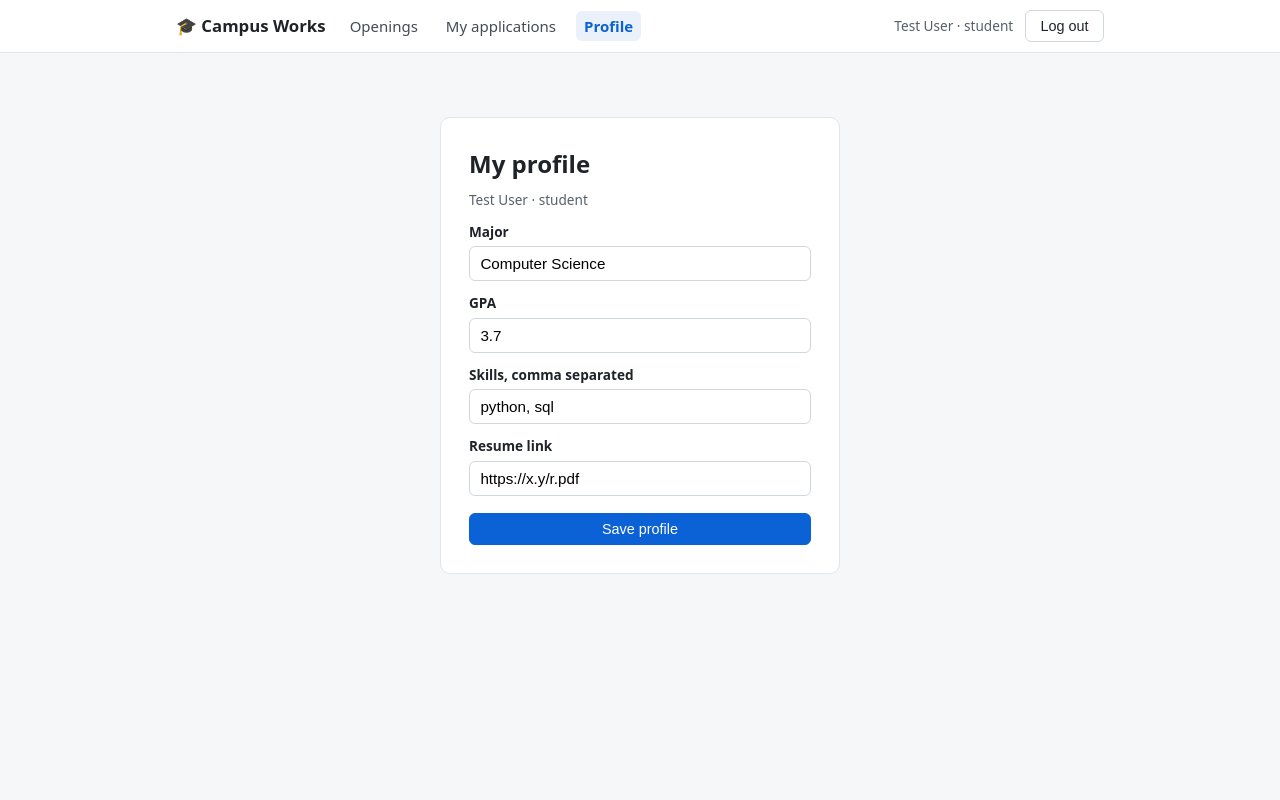
it: student form loads existing values, validates, and saves
The image size is (1280, 800).
expect the field labelled "Skills, comma separated" holds "python, sql": met, box top-left (469, 389), bottom-right (811, 424)
Replace the text in the number field labelled "GPA" with "4.5": point(640, 335) top-left (469, 318), bottom-right (811, 353)
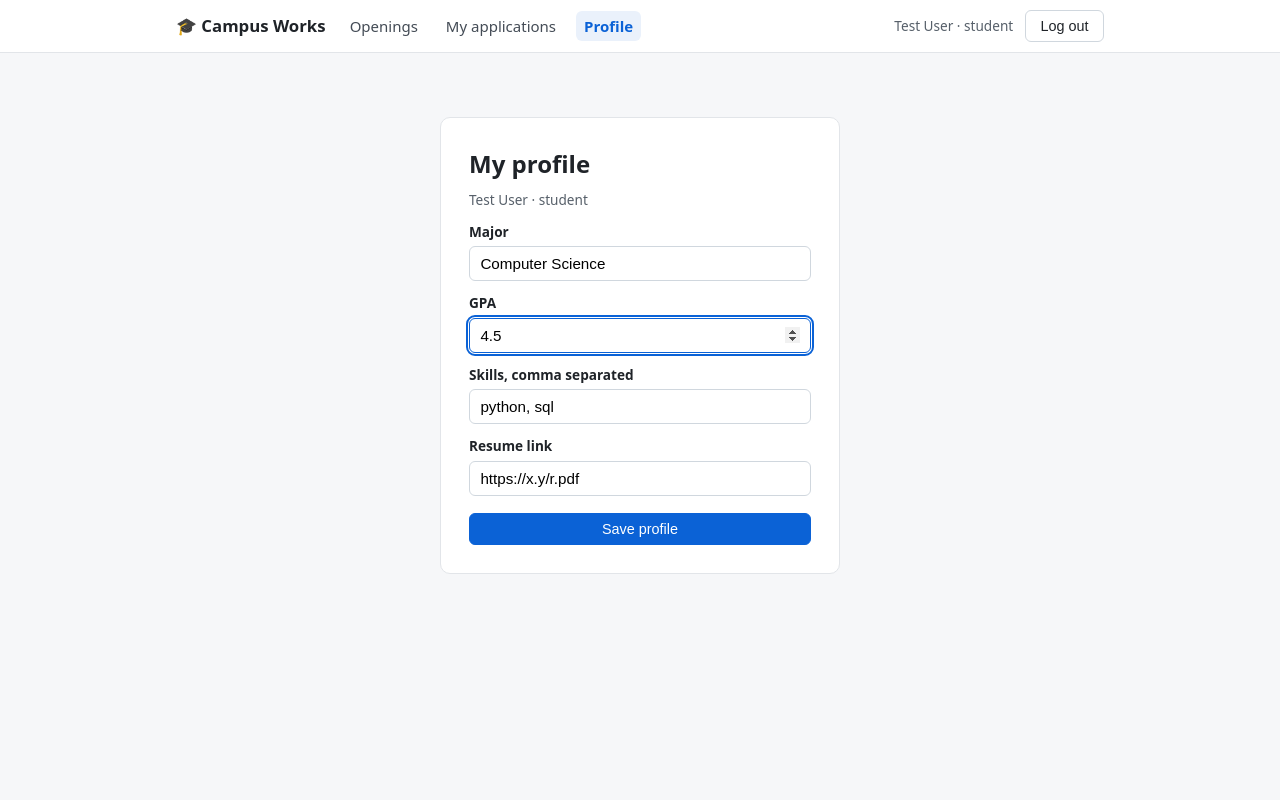
Click the button "Save profile": point(640, 529) top-left (469, 513), bottom-right (811, 546)
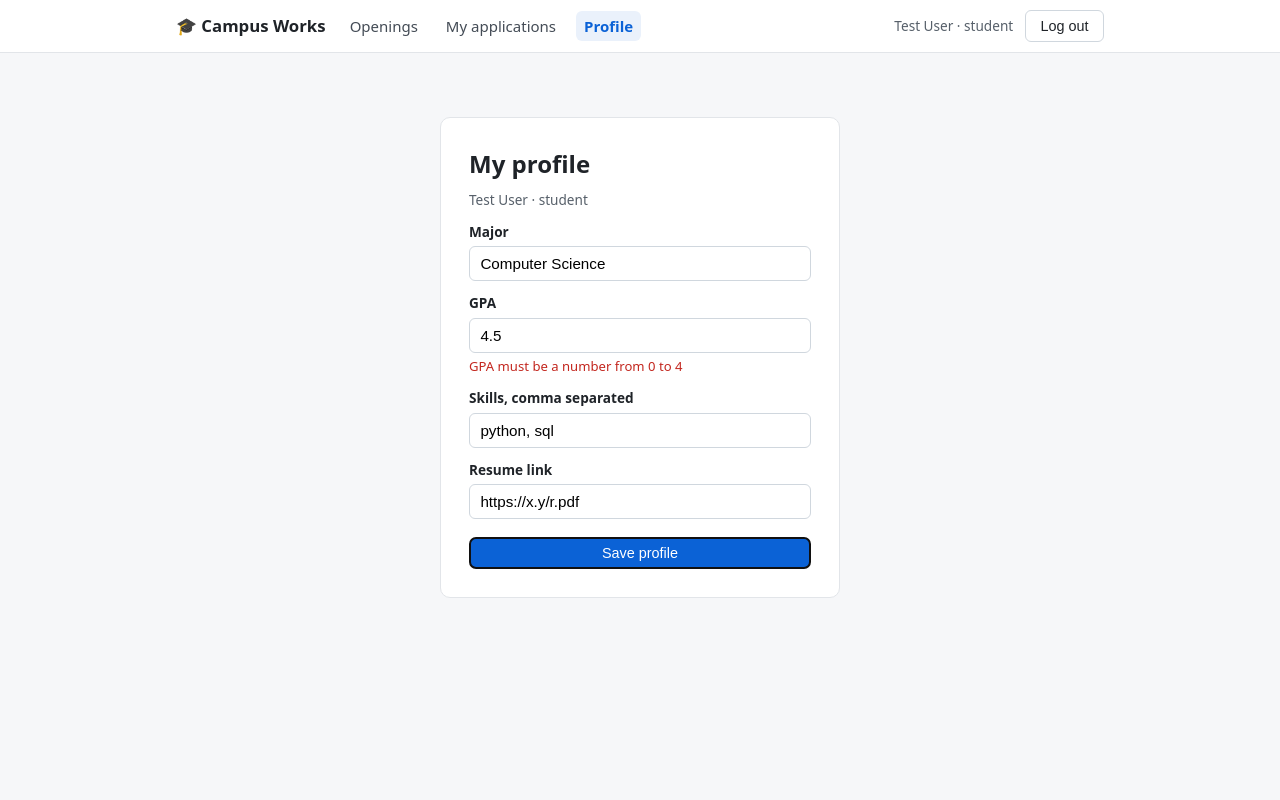
expect the text "GPA must be a number from 0 to 4" is shown: met, box top-left (469, 357), bottom-right (682, 375)
Replace the text in the number field labelled "GPA" with "3.9": point(640, 335) top-left (469, 318), bottom-right (811, 353)
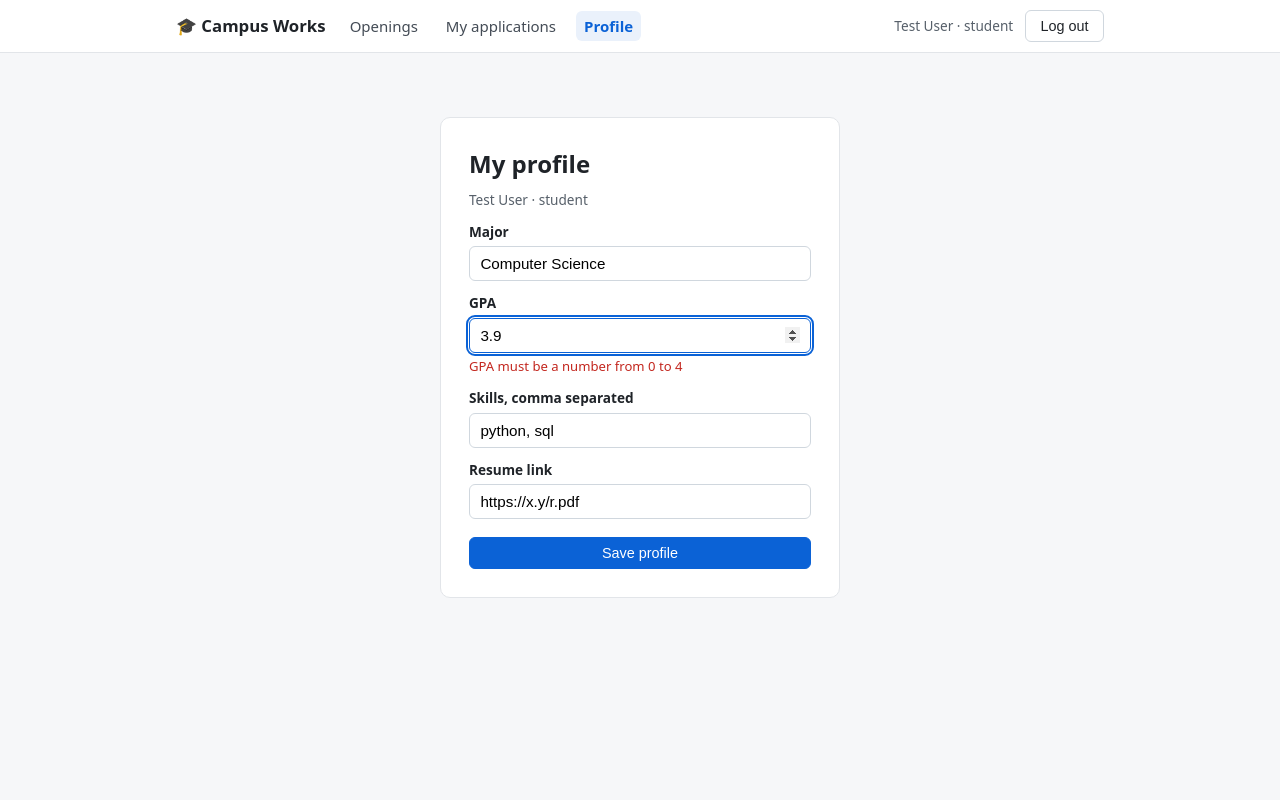
Click the button "Save profile": point(640, 553) top-left (469, 537), bottom-right (811, 569)
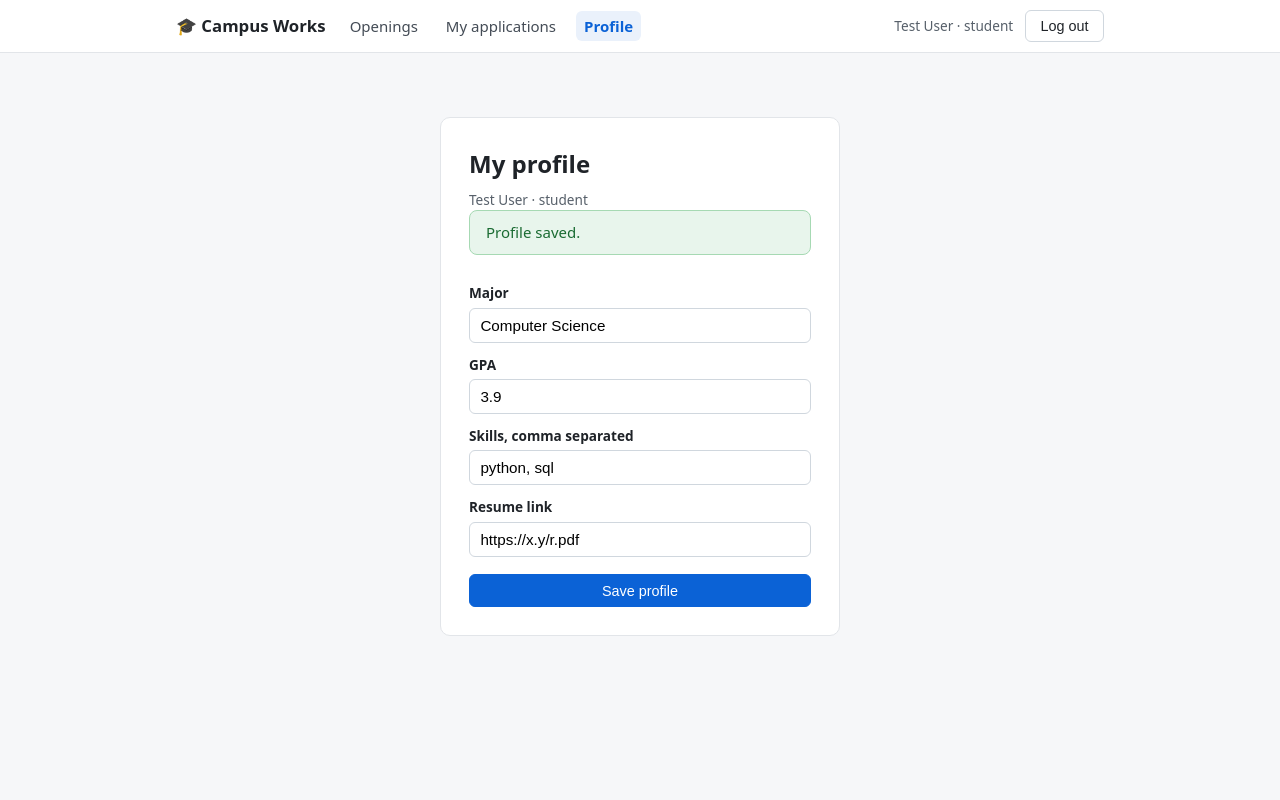
expect the message reads "Profile saved.": met, box top-left (486, 222), bottom-right (580, 242)
